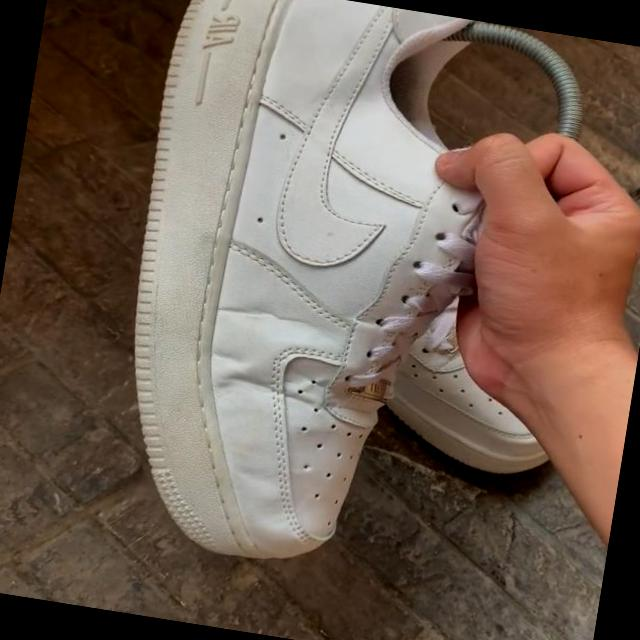nike_fake_airforce: (81, 0, 584, 597)
